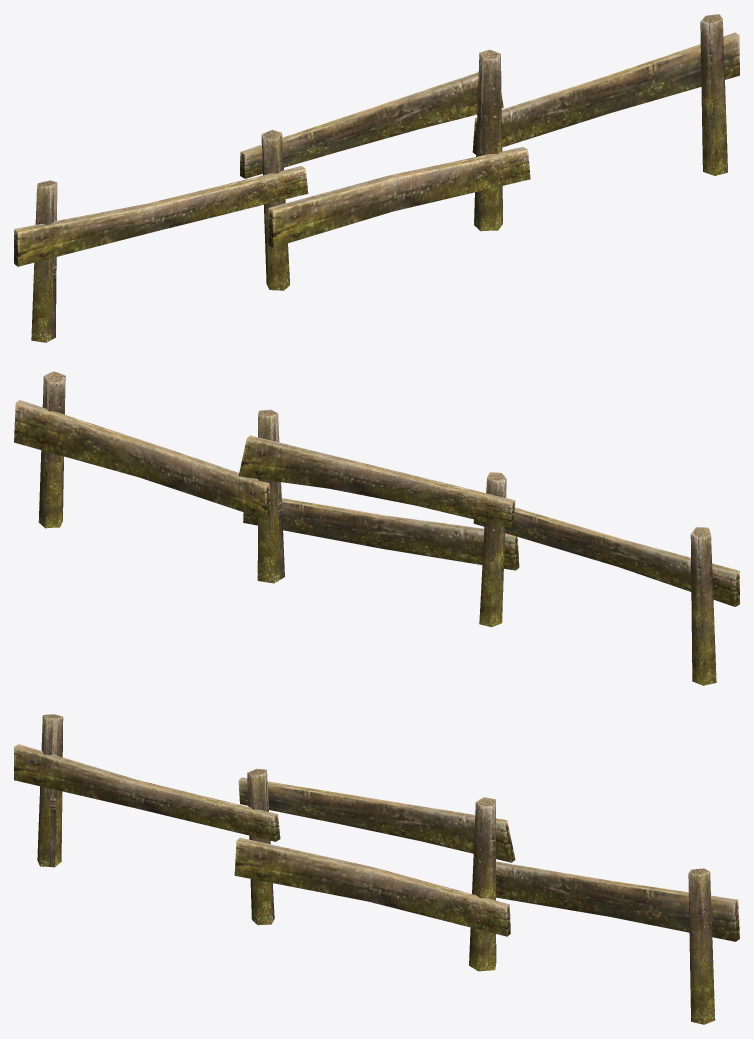
The model's file is OZ_26_mi_fence01A.glb.
The picture shows the model from 3 angles, top to bottom: view 1: azimuth 30°, elevation 25°; view 2: azimuth 150°, elevation 25°; view 3: azimuth 330°, elevation 25°; orthographic projection. The views are drawn at different scales.
Visible parts, largest first — view 1: OM_26_mi_fence01A; view 2: OM_26_mi_fence01A; view 3: OM_26_mi_fence01A.
Part boxes in pixels (<box>): OM_26_mi_fence01A: <box>14,14,739,342</box>; OM_26_mi_fence01A: <box>14,371,739,685</box>; OM_26_mi_fence01A: <box>14,714,739,1024</box>.
Size of the model in its own units: 6.06 by 1.35 by 0.4701.
1 material, 1 textured.
